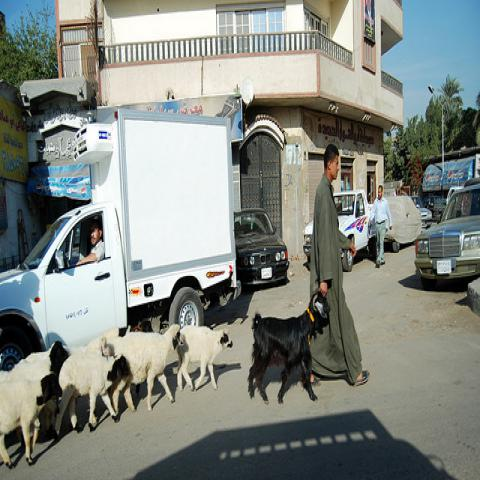car: (413, 183, 479, 292), (233, 208, 290, 283), (383, 197, 422, 254), (409, 195, 433, 229), (422, 196, 442, 217)
truck: (0, 111, 237, 363), (304, 190, 377, 272)
